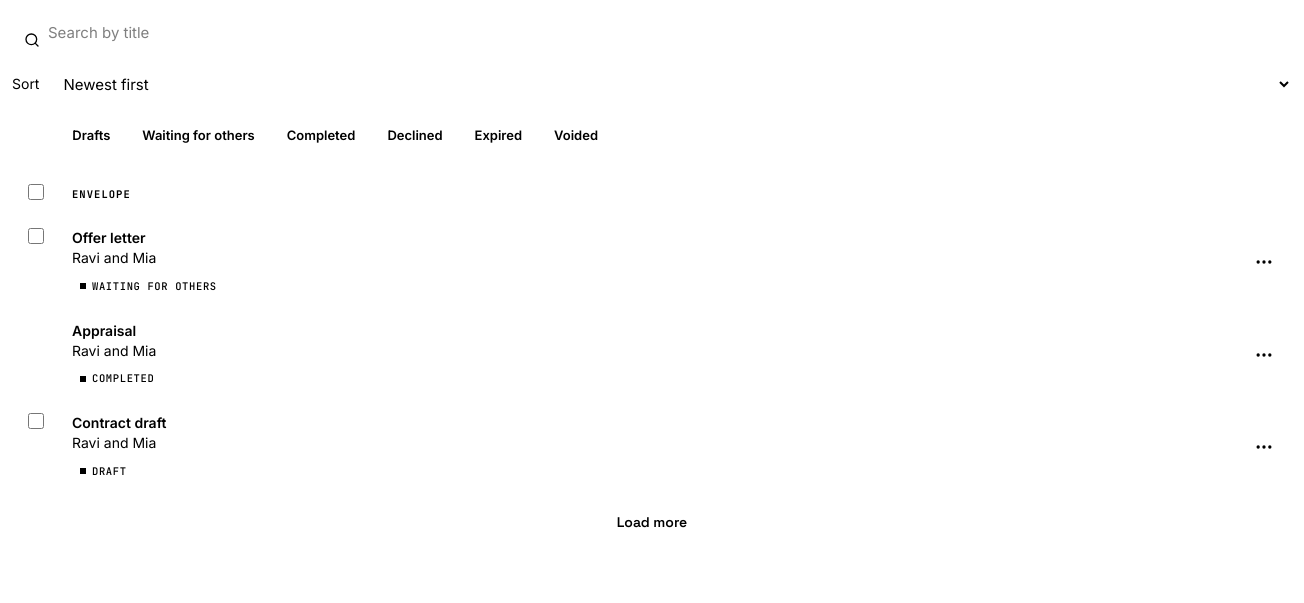
Test: EnvelopesTable › loads the next page after the last row
Click the button "Load more" at (652, 522), box [605,506,699,538]
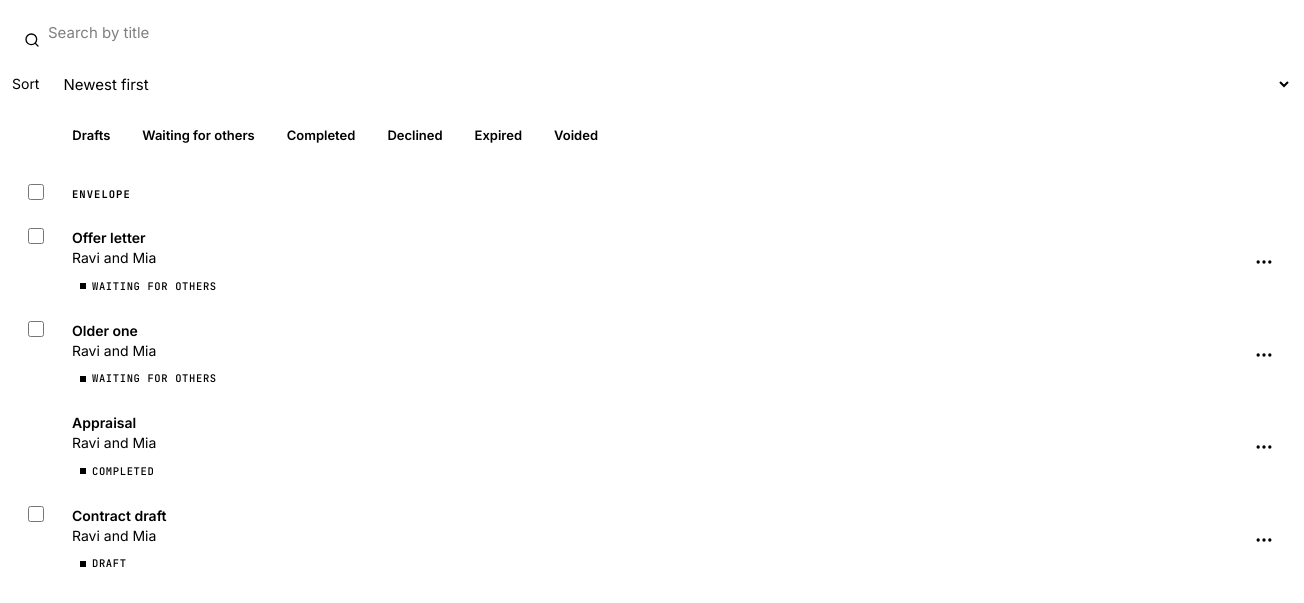
Expected: the number of rows is 5, [12,172,1292,216]; [12,216,1292,308]; [12,308,1292,401]; [12,401,1292,494]; [12,494,1292,586]
Expected: the link "Older one" is shown, [72,322,138,338]
Expected: the button "Load more" is gone
